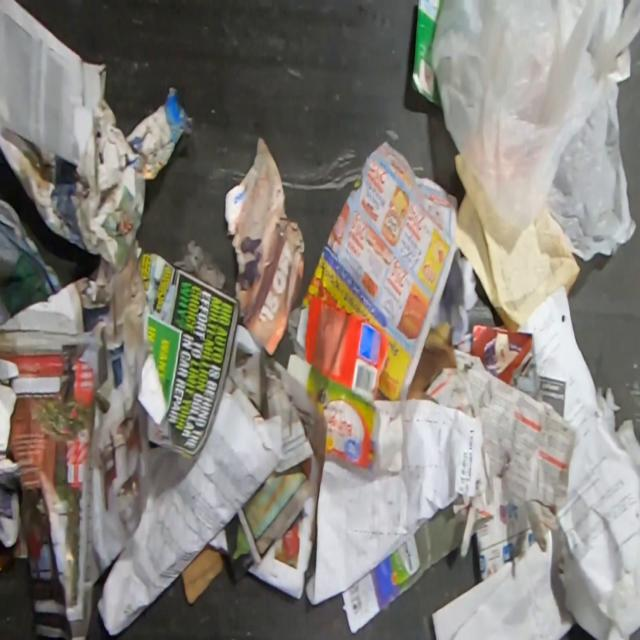cardboard: (181, 543, 225, 603)
soft_plastic: (430, 0, 640, 263)
